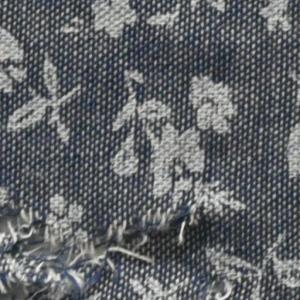Damage: (1, 178, 210, 300), (204, 253, 300, 300)
